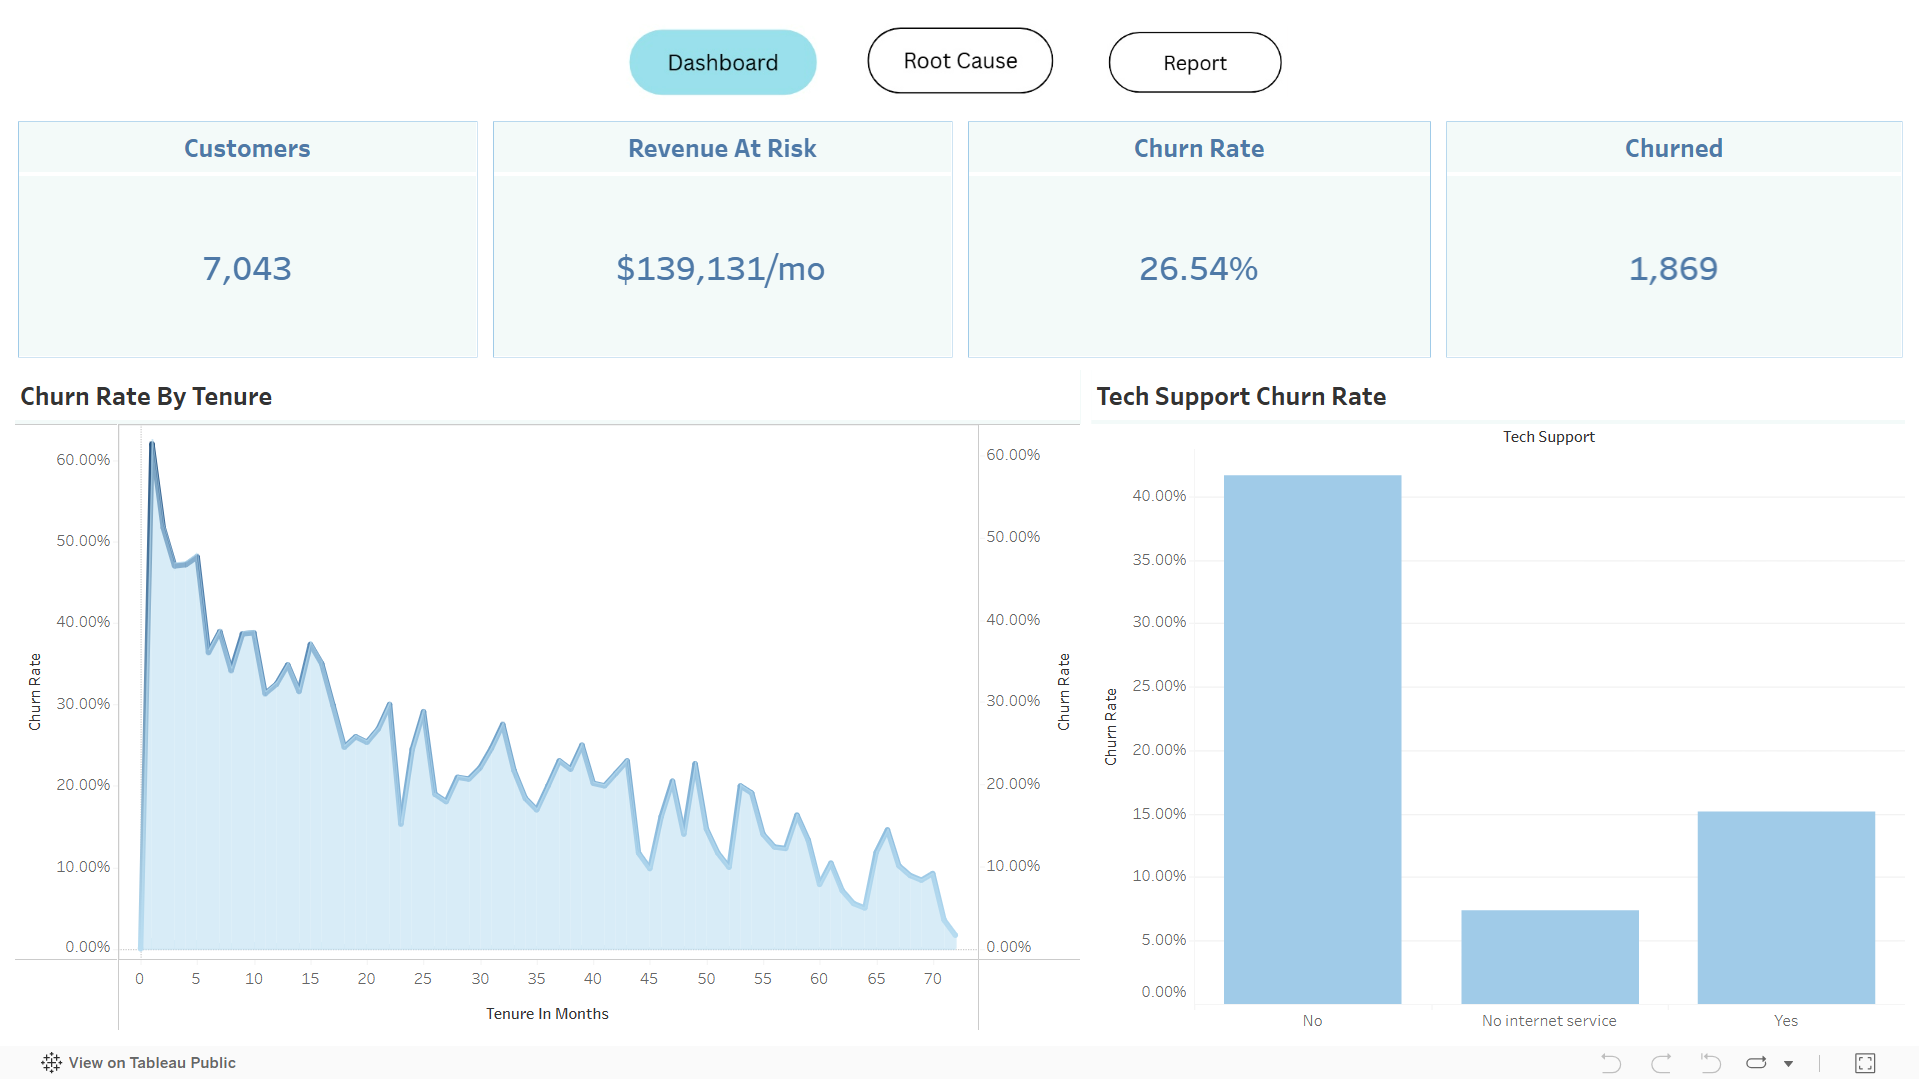

The dashboard page shown, as its layout file describes it:
{"tool":"tableau","page":{"name":"Dashboard 1","canvas":[1000,1000],"units":"permille","ordinal":0},"visuals":[{"type":"dashboard-object","box":[444.1,6.4,110,99.4]},{"type":"dashboard-object","box":[319.9,17.8,111.8,84.1]},{"type":"dashboard-object","box":[573.6,19.1,97,79]},{"type":"worksheet","title":"KPI 1: Total Cutsomer","mark":"Text","box":[4.7,109.4,247.4,239.4]},{"type":"worksheet","title":"KPI 4:Revenue at Risk","mark":"Text","box":[252.2,109.4,247.7,239.4]},{"type":"worksheet","title":"KPI 2: Churn Rate","mark":"Text","box":[499.8,109.4,249.7,239.4]},{"type":"worksheet","title":"KPI 3: Churned","mark":"Text","box":[749.5,109.4,245.7,239.4]},{"type":"worksheet","title":"Churn Rate By Tenure","mark":"Area","rows":["Calculation_1625683474870273","Calculation_1625683474870273"],"cols":["tenure_in_months"],"box":[4.7,348.8,561.3,641]},{"type":"worksheet","title":"Tech Support Churn Rate","mark":"Automatic","rows":["Calculation_1625683474870273"],"cols":["TechSupport"],"box":[566.1,348.8,429.2,641]}]}

Visuals, with their boxes on the dashboard's canvas, which has no fixed pixel size, in thousandths of its width and height (x1, y1, x2, y2). These are canvas units, not pixel positions in the 1919x1079 screenshot, which may show the page scaled, cropped or inside an application window:
dashboard-object: <box>444,6,554,106</box>
dashboard-object: <box>320,18,432,102</box>
dashboard-object: <box>574,19,671,98</box>
"KPI 1: Total Cutsomer" worksheet (Text marks): <box>5,109,252,349</box>
"KPI 4:Revenue at Risk" worksheet (Text marks): <box>252,109,500,349</box>
"KPI 2: Churn Rate" worksheet (Text marks): <box>500,109,750,349</box>
"KPI 3: Churned" worksheet (Text marks): <box>750,109,995,349</box>
"Churn Rate By Tenure" worksheet (Area marks): <box>5,349,566,990</box>
"Tech Support Churn Rate" worksheet: <box>566,349,995,990</box>
